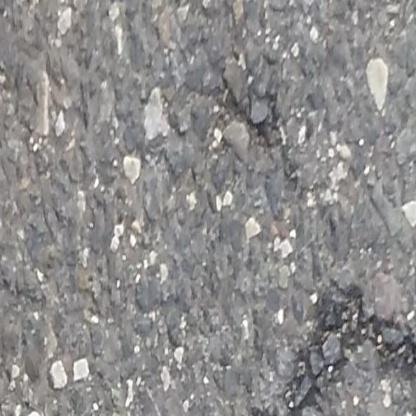Cracks: (234, 280, 416, 416)
